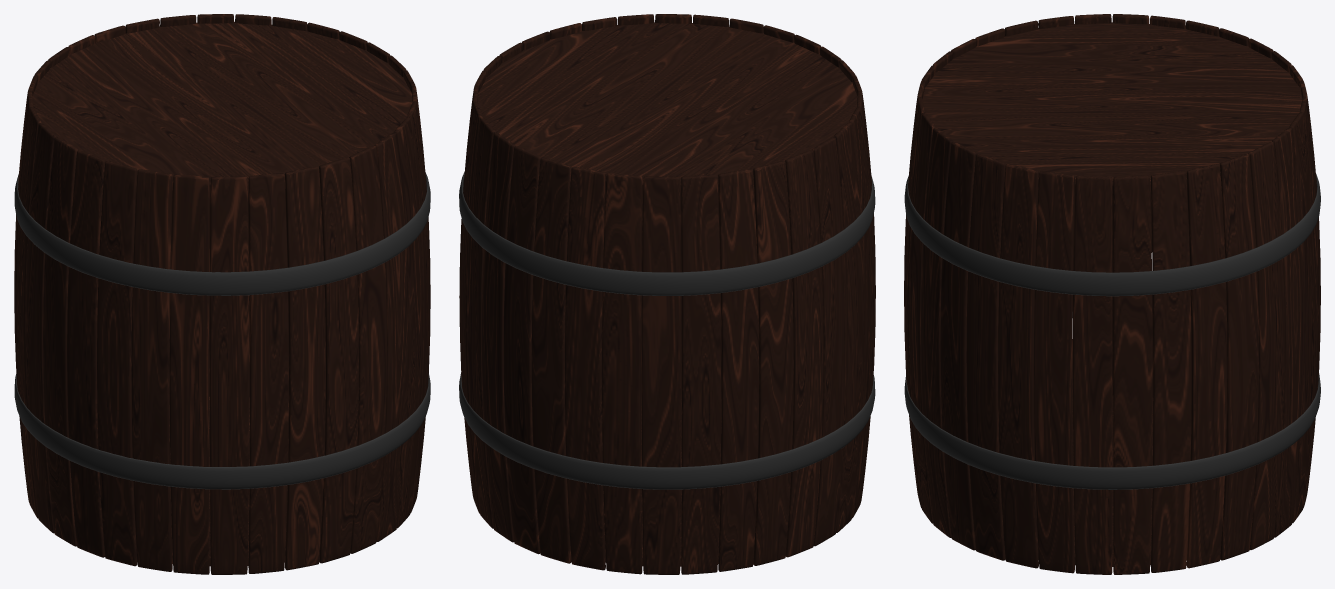
The model's file is barrel.fbx.
3 views of the same model, side by side, from view 1: azimuth 30°, elevation 25°; view 2: azimuth 150°, elevation 25°; view 3: azimuth 270°, elevation 25° (orthographic).
Visible parts, largest first — view 1: Cylinder, Circle.001, Circle; view 2: Cylinder, Circle.001, Circle; view 3: Cylinder, Circle.001, Circle.
Boxes of the visible parts, bbox=[...] form: Cylinder: bbox=[14, 14, 430, 574]; Circle.001: bbox=[32, 22, 412, 566]; Circle: bbox=[14, 172, 430, 489]; Cylinder: bbox=[459, 14, 875, 574]; Circle.001: bbox=[477, 22, 857, 566]; Circle: bbox=[459, 172, 875, 489]; Cylinder: bbox=[904, 14, 1320, 574]; Circle.001: bbox=[922, 22, 1302, 566]; Circle: bbox=[904, 174, 1320, 489].
Bounding box in the file's own units: 220 × 231 × 220.
3 materials, 2 textured.
